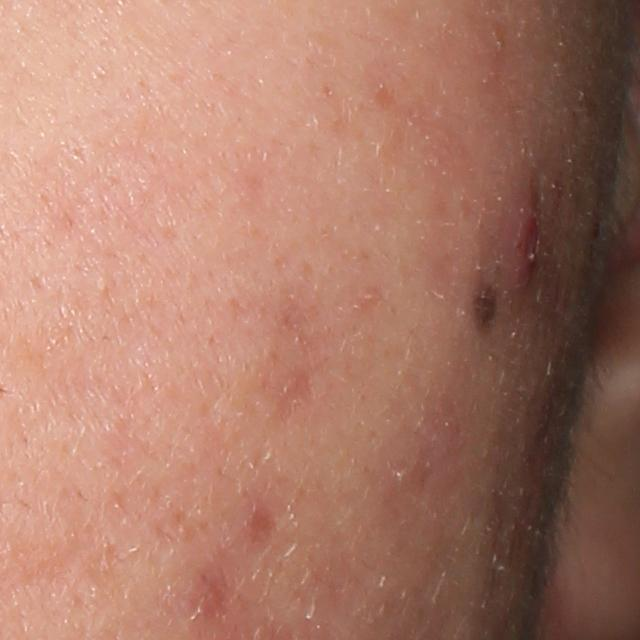nevus: (472, 282, 502, 338)
papule: (501, 170, 544, 290)
